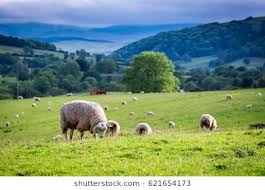sheep: (58, 99, 108, 139), (196, 111, 220, 131), (106, 117, 123, 141), (133, 121, 155, 139), (166, 118, 177, 127), (224, 94, 234, 102)
